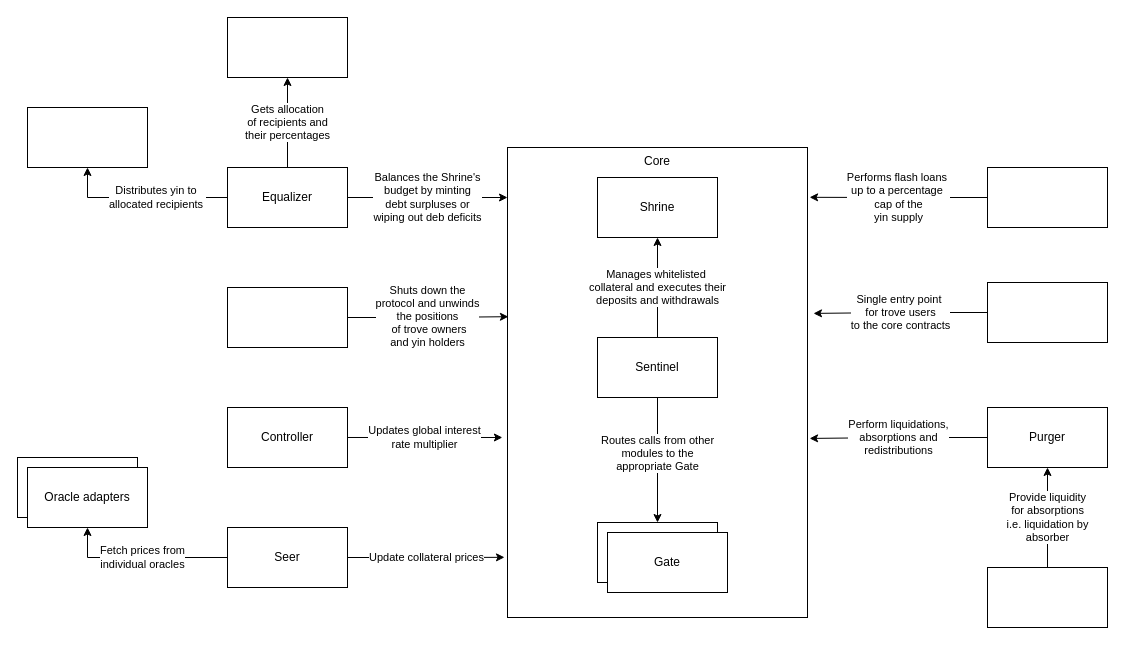
The diagram is 1125 pixels wide and 645 high, and some of its shapes have lost their labels. The shapes that lost their labels are listed below. From the top down, each one's centre as x and y in pixels, then its label:
At point (287, 47): "Allocator".
At point (87, 137): "Recipients".
At point (1047, 197): "Flashmint".
At point (287, 317): "Caretaker".
At point (1047, 312): "Abbot".
At point (1047, 597): "Absorber".
